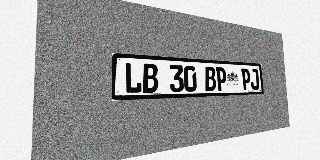0: (183, 65, 197, 92)
3: (169, 65, 184, 92)
B: (142, 63, 158, 93), (204, 66, 216, 91)
J: (250, 69, 259, 90)
L: (124, 62, 142, 94)
P: (216, 67, 227, 91), (241, 68, 251, 90)
